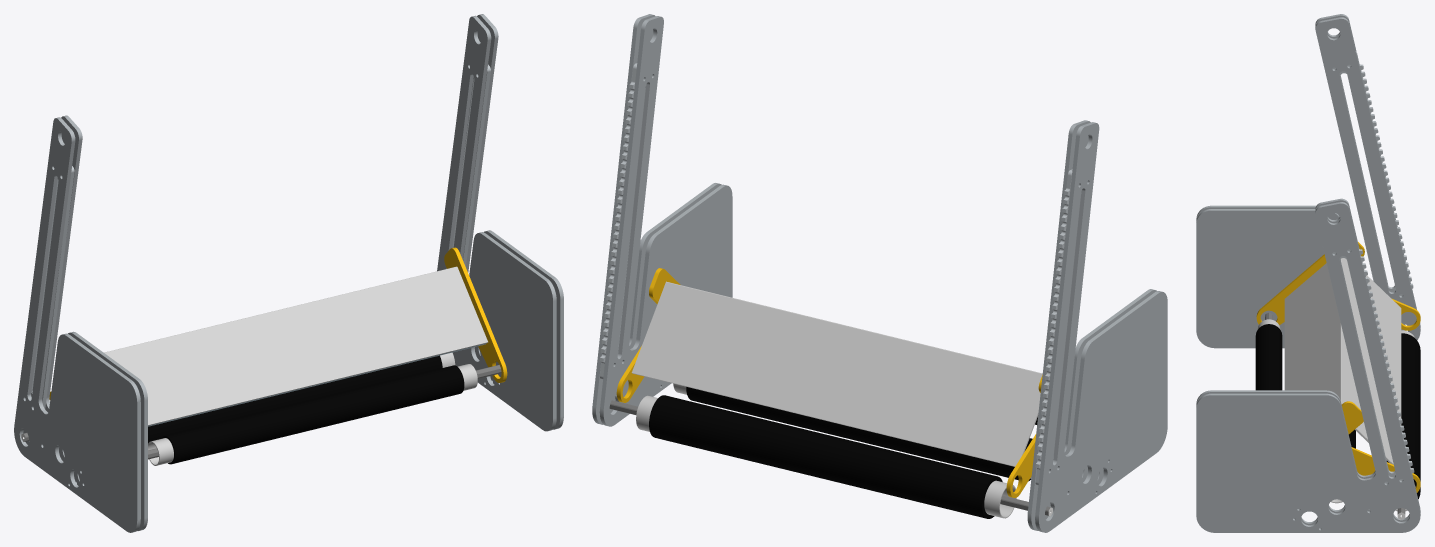
The picture shows the model from 3 angles, left to right: view 1: azimuth 30°, elevation 25°; view 2: azimuth 150°, elevation 25°; view 3: azimuth 270°, elevation 25°; orthographic projection. The views are drawn at different scales.
Visible parts, largest first — view 1: occurrence of Part 22, occurrence of Part 7, occurrence of Part 2 (×2), occurrence of Part 17, occurrence of Part 15, occurrence of Part 9, occurrence of Lantern Rack (×2), occurrence of Part 6, occurrence of Part 16; view 2: occurrence of Part 22, occurrence of Part 7, occurrence of Part 2 (×2), occurrence of Part 15 (×2), occurrence of Lantern Rack (×2), occurrence of Part 9, occurrence of Part 6 (×2), occurrence of Part 14; view 3: occurrence of Part 2 (×2), occurrence of Part 9, occurrence of Part 22, occurrence of Part 15, occurrence of Part 6 (×2), occurrence of Lantern Rack (×2), occurrence of Part 17, occurrence of Part 7.
Part boxes in pixels (bbox=[...]): occurrence of Part 22: bbox=[104, 266, 487, 425]; occurrence of Part 7: bbox=[14, 117, 140, 532]; occurrence of Part 2 (×2): bbox=[437, 14, 563, 431]; occurrence of Part 17: bbox=[162, 365, 464, 464]; occurrence of Part 15: bbox=[148, 355, 442, 443]; occurrence of Part 9: bbox=[23, 115, 147, 530]; occurrence of Lantern Rack (×2): bbox=[31, 64, 490, 408]; occurrence of Part 6: bbox=[444, 247, 507, 382]; occurrence of Part 16: bbox=[148, 364, 477, 465]; occurrence of Part 22: bbox=[631, 281, 1042, 466]; occurrence of Part 7: bbox=[1035, 122, 1167, 532]; occurrence of Part 2 (×2): bbox=[592, 14, 732, 426]; occurrence of Part 15 (×2): bbox=[649, 387, 1032, 518]; occurrence of Lantern Rack (×2): bbox=[599, 63, 1081, 485]; occurrence of Part 9: bbox=[1027, 120, 1156, 530]; occurrence of Part 6 (×2): bbox=[616, 268, 1042, 497]; occurrence of Part 14: bbox=[636, 395, 1016, 518]; occurrence of Part 2 (×2): bbox=[1196, 198, 1420, 532]; occurrence of Part 9: bbox=[1196, 17, 1420, 348]; occurrence of Part 22: bbox=[1284, 258, 1401, 464]; occurrence of Part 15: bbox=[1386, 333, 1420, 498]; occurrence of Part 6 (×2): bbox=[1256, 242, 1420, 492]; occurrence of Lantern Rack (×2): bbox=[1333, 51, 1414, 483]; occurrence of Part 17: bbox=[1255, 324, 1282, 390]; occurrence of Part 7: bbox=[1196, 14, 1420, 331].
Bounding box in the file's own units: 0.7525 × 0.6074 × 0.3748.
